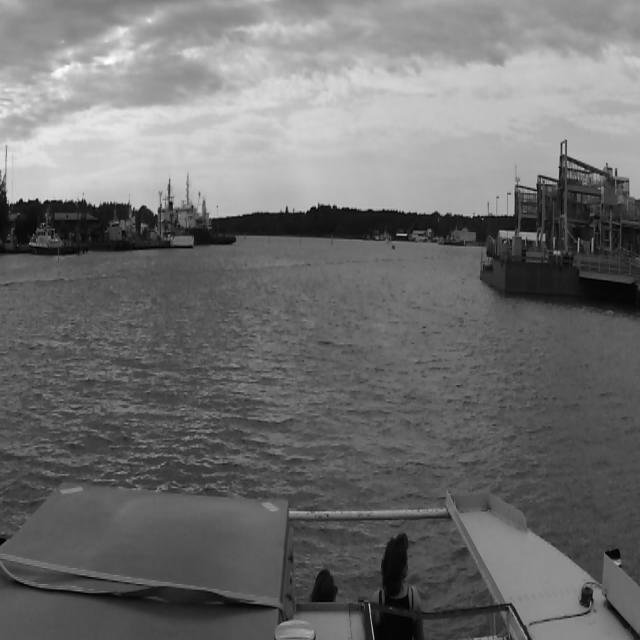buoy: (329, 232, 335, 251)
ship: (157, 176, 236, 245), (29, 223, 74, 253), (88, 221, 134, 250), (388, 240, 396, 253)
